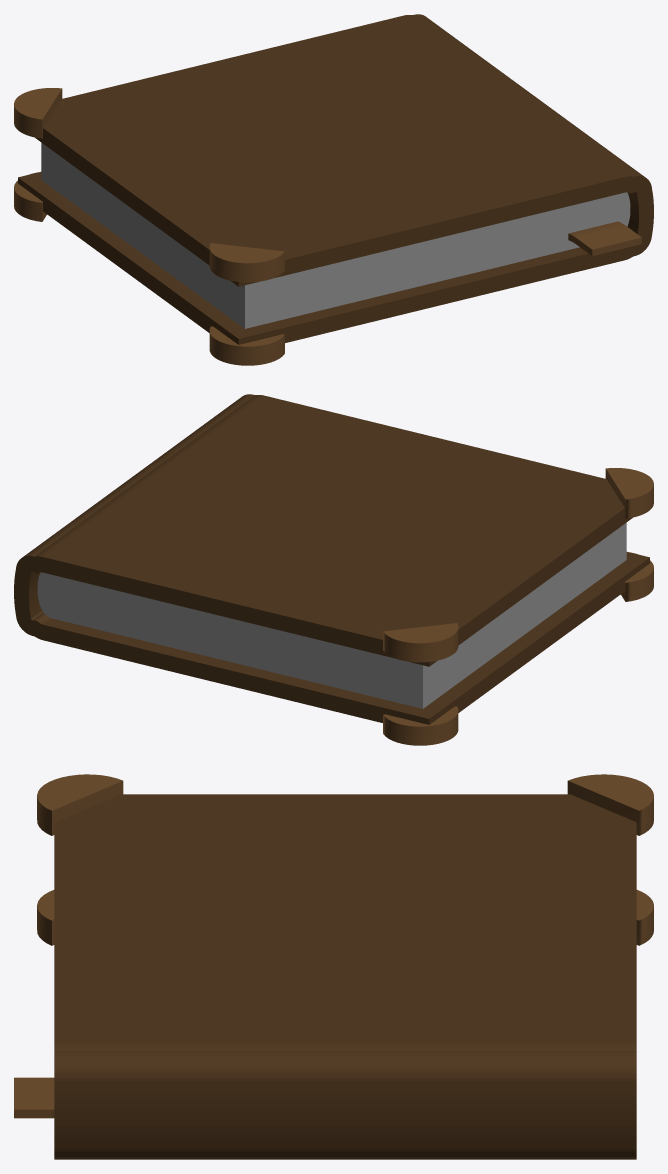
File: Books.glb
3 views of the same model, one above another, from view 1: azimuth 30°, elevation 25°; view 2: azimuth 150°, elevation 25°; view 3: azimuth 270°, elevation 25° (orthographic). The views are drawn at different scales.
Parts seen in each view (by area): view 1: Cover, Paper, RoundCornerDetail (×4), BookMarkTwo; view 2: Cover, Paper, RoundCornerDetail (×4); view 3: Cover, RoundCornerDetail (×4), BookMarkTwo.
Boxes of the visible parts, x1=… form: Cover: x1=18, y1=14, x2=653, y2=344; Paper: x1=41, y1=142, x2=617, y2=328; RoundCornerDetail (×4): x1=14, y1=88, x2=284, y2=365; BookMarkTwo: x1=568, y1=221, x2=641, y2=255; Cover: x1=14, y1=394, x2=649, y2=724; Paper: x1=50, y1=522, x2=626, y2=708; RoundCornerDetail (×4): x1=383, y1=468, x2=653, y2=745; Cover: x1=54, y1=794, x2=636, y2=1159; RoundCornerDetail (×4): x1=37, y1=774, x2=653, y2=945; BookMarkTwo: x1=14, y1=1077, x2=54, y2=1118.
Bounding box in the file's own units: 0.2573 × 0.059 × 0.2533.
